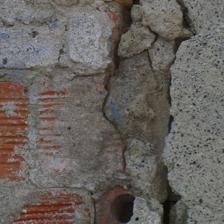Crack: (0, 0, 121, 156), (70, 123, 161, 224)
